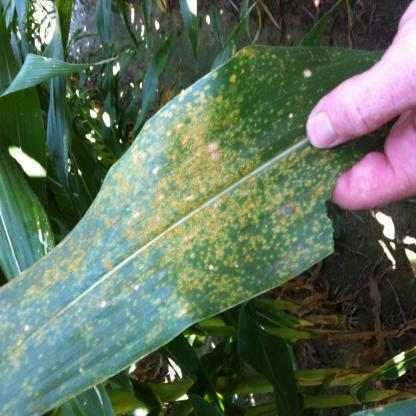corn rust leaf: (0, 43, 299, 415)
